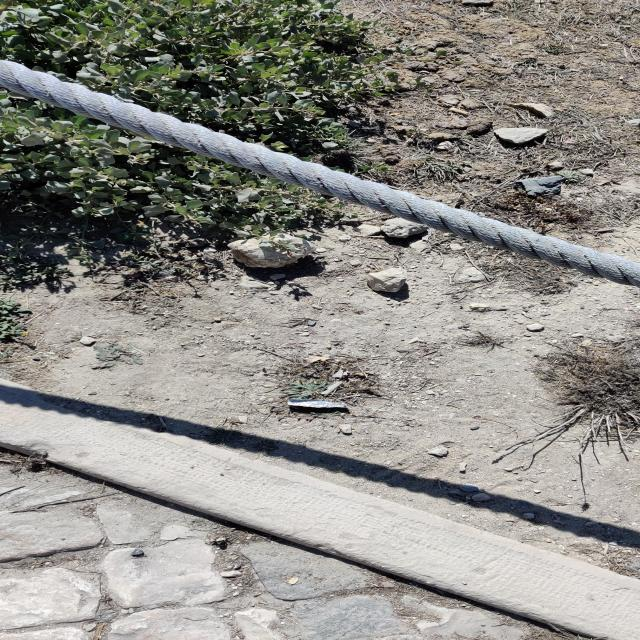Aluminium foil: (287, 399, 349, 408)
Cigarette: (448, 107, 469, 116)
